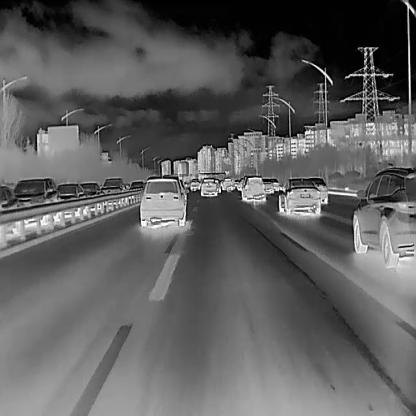car: (351, 166, 415, 269), (138, 176, 186, 228), (277, 178, 320, 214), (10, 177, 60, 206), (240, 174, 266, 200), (56, 182, 86, 203), (0, 183, 18, 212), (308, 176, 328, 202), (78, 180, 103, 200), (99, 176, 125, 195), (200, 177, 218, 197), (128, 180, 144, 194), (235, 176, 248, 191), (261, 177, 273, 193), (222, 177, 233, 190), (270, 176, 279, 191), (190, 178, 200, 189)
